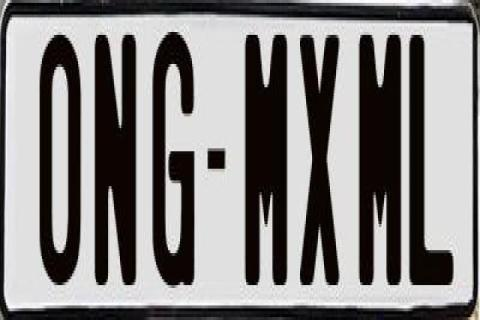0: (40, 32, 88, 285)
G: (152, 29, 199, 285)
L: (406, 32, 454, 285)
M: (242, 26, 284, 291), (356, 29, 400, 279)
N: (94, 26, 136, 288)
X: (300, 29, 340, 291)
